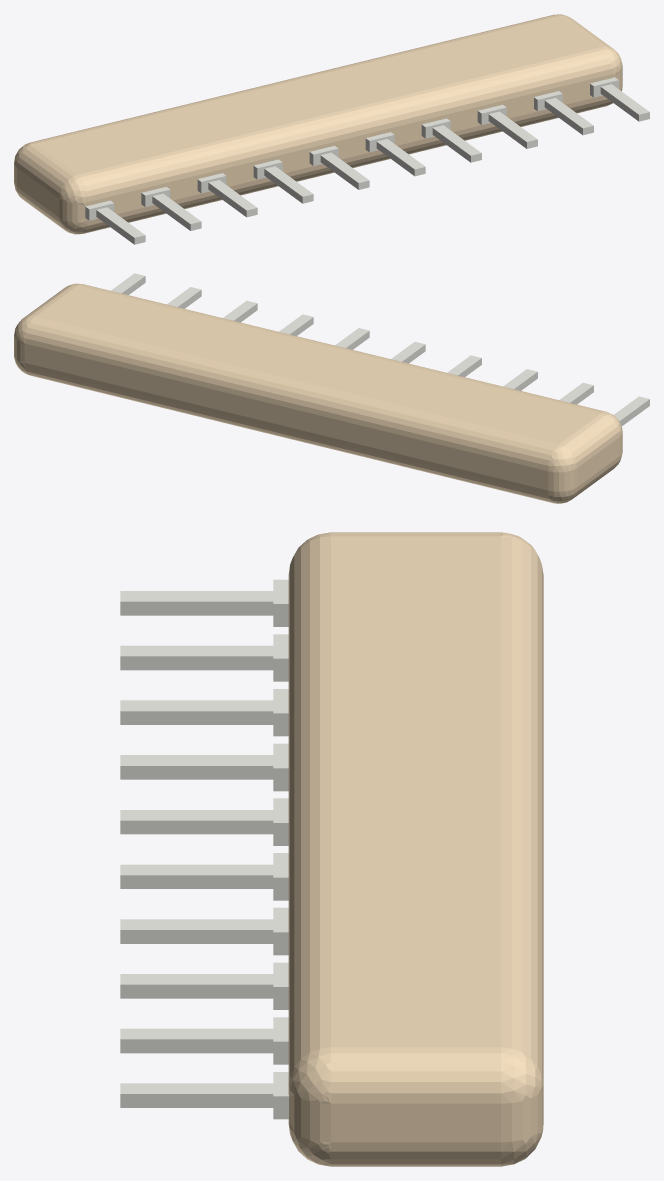
The model's file is R_Array_SIP10.glb.
The picture shows the model from 3 angles, top to bottom: view 1: azimuth 30°, elevation 25°; view 2: azimuth 150°, elevation 25°; view 3: azimuth 270°, elevation 25°; orthographic projection. The views are drawn at different scales.
Visible parts, largest first — view 1: Shape_IndexedFaceSet.065, Shape_IndexedFaceSet.019, Shape_IndexedFaceSet.007, Shape_IndexedFaceSet.003, Shape_IndexedFaceSet.060, Shape_IndexedFaceSet.059, Shape_IndexedFaceSet.013, Shape_IndexedFaceSet.064, Shape_IndexedFaceSet.020, Shape_IndexedFaceSet.080, Shape_IndexedFaceSet.088, Shape_IndexedFaceSet.084 (+8 smaller); view 2: Shape_IndexedFaceSet.065, Shape_IndexedFaceSet.060, Shape_IndexedFaceSet.014, Shape_IndexedFaceSet.006, Shape_IndexedFaceSet.019, Shape_IndexedFaceSet.059, Shape_IndexedFaceSet.013, Shape_IndexedFaceSet.077, Shape_IndexedFaceSet.058, Shape_IndexedFaceSet.005; view 3: Shape_IndexedFaceSet.065, Shape_IndexedFaceSet.060, Shape_IndexedFaceSet.019, Shape_IndexedFaceSet.057, Shape_IndexedFaceSet.011, Shape_IndexedFaceSet.004, Shape_IndexedFaceSet.083, Shape_IndexedFaceSet.103, Shape_IndexedFaceSet.107, Shape_IndexedFaceSet.111, Shape_IndexedFaceSet.095, Shape_IndexedFaceSet.079 (+18 smaller).
Part boxes in pixels (x1,y1,x2,y2): Shape_IndexedFaceSet.065: (35, 16, 600, 174); Shape_IndexedFaceSet.019: (78, 47, 611, 201); Shape_IndexedFaceSet.007: (88, 74, 611, 220); Shape_IndexedFaceSet.003: (83, 95, 610, 233); Shape_IndexedFaceSet.060: (30, 14, 558, 143); Shape_IndexedFaceSet.059: (17, 144, 77, 198); Shape_IndexedFaceSet.013: (17, 168, 59, 217); Shape_IndexedFaceSet.064: (59, 175, 88, 203); Shape_IndexedFaceSet.020: (59, 199, 88, 222); Shape_IndexedFaceSet.080: (601, 84, 649, 114); Shape_IndexedFaceSet.088: (433, 125, 481, 155); Shape_IndexedFaceSet.084: (97, 207, 144, 237); Shape_IndexedFaceSet.065: (35, 285, 600, 444); Shape_IndexedFaceSet.060: (24, 316, 558, 470); Shape_IndexedFaceSet.014: (24, 343, 548, 490); Shape_IndexedFaceSet.006: (24, 363, 552, 502); Shape_IndexedFaceSet.019: (78, 284, 606, 412); Shape_IndexedFaceSet.059: (559, 413, 619, 467); Shape_IndexedFaceSet.013: (577, 437, 619, 486); Shape_IndexedFaceSet.077: (548, 444, 577, 472); Shape_IndexedFaceSet.058: (548, 468, 577, 491); Shape_IndexedFaceSet.005: (573, 456, 619, 498); Shape_IndexedFaceSet.065: (331, 536, 500, 1047); Shape_IndexedFaceSet.060: (501, 536, 543, 1085); Shape_IndexedFaceSet.019: (288, 536, 330, 1083); Shape_IndexedFaceSet.057: (331, 1047, 500, 1103); Shape_IndexedFaceSet.011: (331, 1103, 500, 1142); Shape_IndexedFaceSet.004: (331, 1142, 500, 1166); Shape_IndexedFaceSet.083: (120, 601, 273, 615); Shape_IndexedFaceSet.103: (120, 1039, 273, 1053); Shape_IndexedFaceSet.107: (120, 984, 273, 998); Shape_IndexedFaceSet.111: (120, 656, 273, 670); Shape_IndexedFaceSet.095: (120, 820, 273, 834); Shape_IndexedFaceSet.079: (120, 1094, 273, 1107).
Bounding box in the file's own units: 10 × 0.988 × 3.27.
